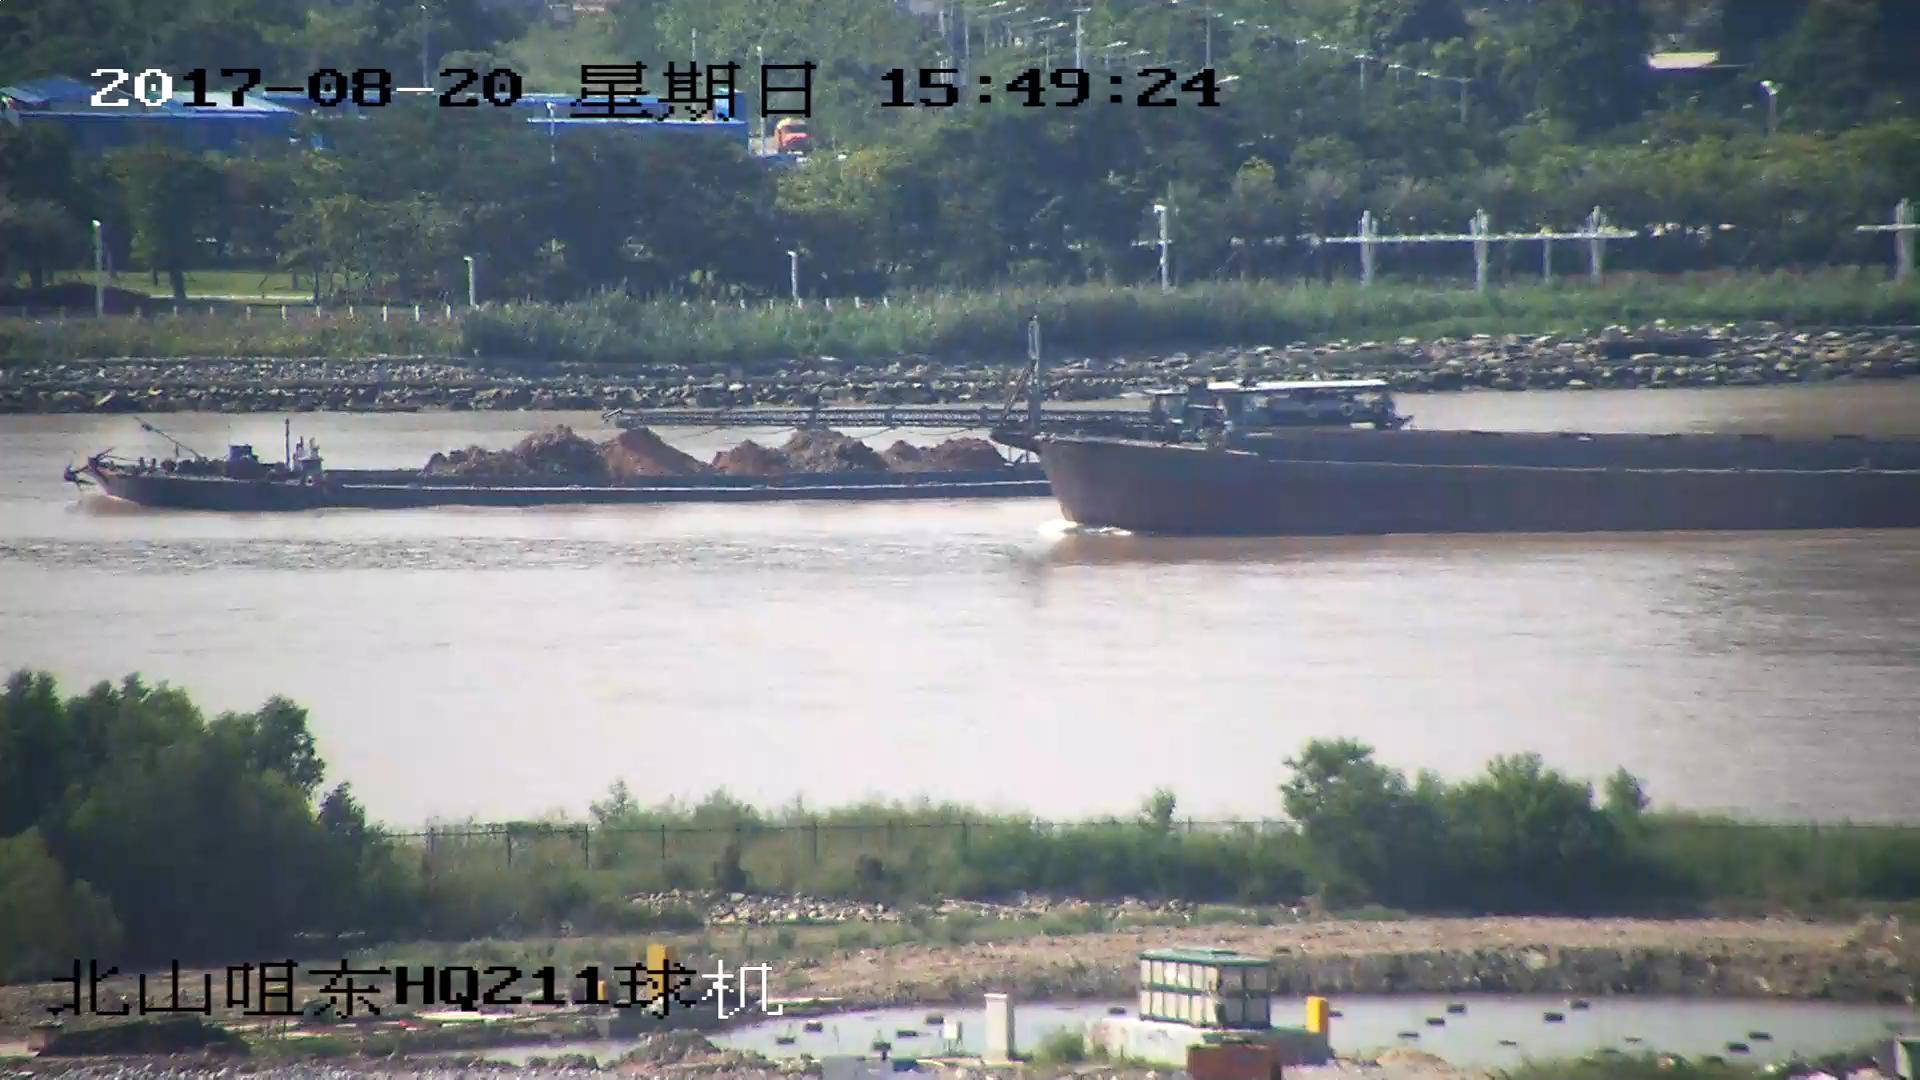Ship: (636, 338, 1920, 535), (65, 371, 1407, 516)
